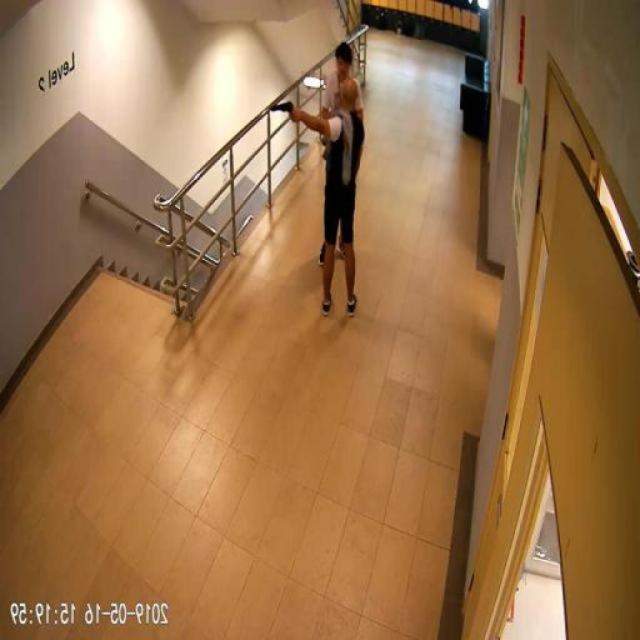pistol: (274, 100, 298, 120)
